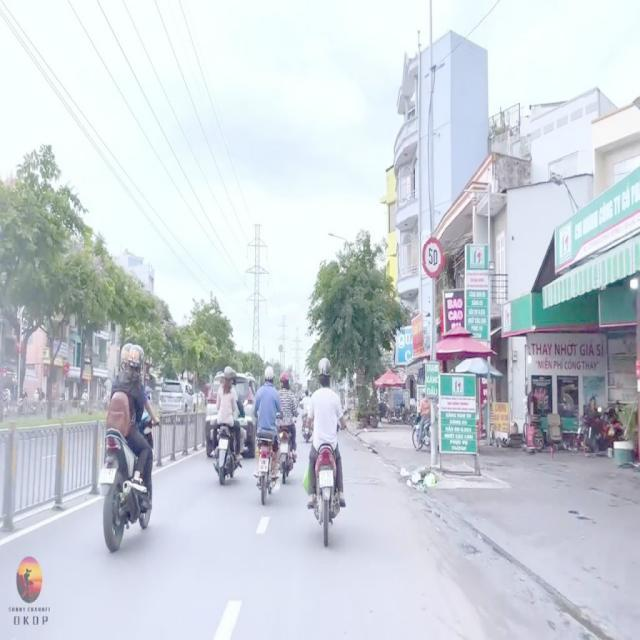127-toc-do-toi-da-50: (421, 238, 447, 277)
